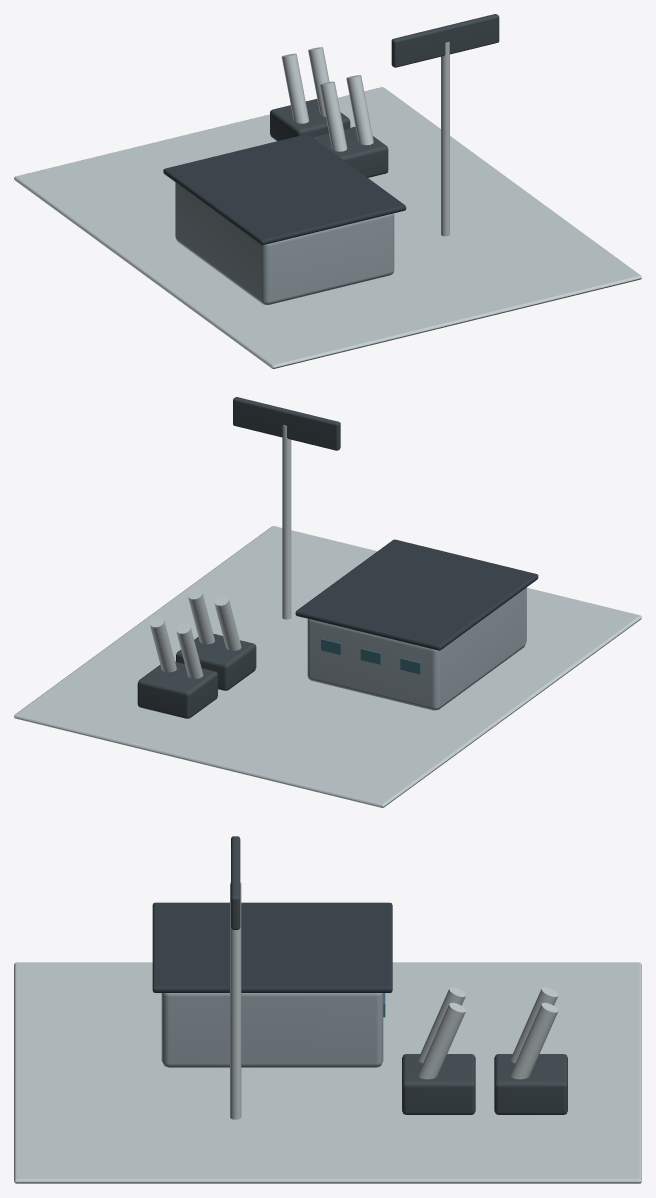
The model's file is generic-facility.glb.
3 renders of one model, top to bottom at view 1: azimuth 30°, elevation 25°; view 2: azimuth 150°, elevation 25°; view 3: azimuth 270°, elevation 25°, orthographic. The views are drawn at different scales.
Parts seen in each view (by area): view 1: facility_ConcretePad, facility_Roof, facility_OperationsBuilding, facility_RadarSpinner, facility_LauncherTruck, facility_RadarMast, facility_LauncherTruck.001, facility_LaunchTube.002, facility_LaunchTube, facility_LaunchTube.001, facility_LaunchTube.003; view 2: facility_ConcretePad, facility_Roof, facility_OperationsBuilding, facility_LauncherTruck.001, facility_RadarSpinner, facility_LauncherTruck, facility_RadarMast, facility_LaunchTube.001, facility_LaunchTube, facility_LaunchTube.002, facility_LaunchTube.003; view 3: facility_ConcretePad, facility_Roof, facility_OperationsBuilding, facility_LauncherTruck.001, facility_LauncherTruck, facility_RadarMast, facility_LaunchTube.003, facility_LaunchTube.001, facility_RadarSpinner, facility_LaunchTube, facility_LaunchTube.002.
Boxes of the visible parts, x1=… form: facility_ConcretePad: x1=14, y1=87, x2=641, y2=368; facility_Roof: x1=163, y1=134, x2=406, y2=245; facility_OperationsBuilding: x1=175, y1=182, x2=394, y2=304; facility_RadarSpinner: x1=391, y1=14, x2=499, y2=67; facility_LauncherTruck: x1=312, y1=127, x2=388, y2=177; facility_RadarMast: x1=441, y1=41, x2=449, y2=236; facility_LauncherTruck.001: x1=270, y1=99, x2=350, y2=141; facility_LaunchTube.002: x1=281, y1=53, x2=309, y2=123; facility_LaunchTube: x1=320, y1=81, x2=347, y2=151; facility_LaunchTube.001: x1=346, y1=75, x2=373, y2=145; facility_LaunchTube.003: x1=308, y1=47, x2=329, y2=116; facility_ConcretePad: x1=14, y1=526, x2=641, y2=807; facility_Roof: x1=295, y1=539, x2=538, y2=650; facility_OperationsBuilding: x1=307, y1=587, x2=526, y2=710; facility_LauncherTruck.001: x1=137, y1=661, x2=217, y2=718; facility_RadarSpinner: x1=233, y1=397, x2=340, y2=450; facility_LauncherTruck: x1=176, y1=634, x2=256, y2=690; facility_RadarMast: x1=282, y1=425, x2=291, y2=619; facility_LaunchTube.001: x1=187, y1=589, x2=214, y2=644; facility_LaunchTube: x1=214, y1=595, x2=241, y2=650; facility_LaunchTube.002: x1=176, y1=623, x2=203, y2=678; facility_LaunchTube.003: x1=149, y1=616, x2=176, y2=672; facility_ConcretePad: x1=14, y1=962, x2=641, y2=1183; facility_Roof: x1=152, y1=902, x2=392, y2=992; facility_OperationsBuilding: x1=161, y1=993, x2=383, y2=1067; facility_LauncherTruck.001: x1=494, y1=1054, x2=567, y2=1114; facility_LauncherTruck: x1=402, y1=1054, x2=475, y2=1114; facility_RadarMast: x1=230, y1=882, x2=241, y2=1119; facility_LaunchTube.003: x1=510, y1=1002, x2=558, y2=1079; facility_LaunchTube.001: x1=418, y1=1002, x2=465, y2=1079; facility_RadarSpinner: x1=231, y1=836, x2=240, y2=929; facility_LaunchTube: x1=418, y1=987, x2=465, y2=1063; facility_LaunchTube.002: x1=510, y1=987, x2=558, y2=1063.
Size of the model in its own units: 28 by 15.3 by 34.
